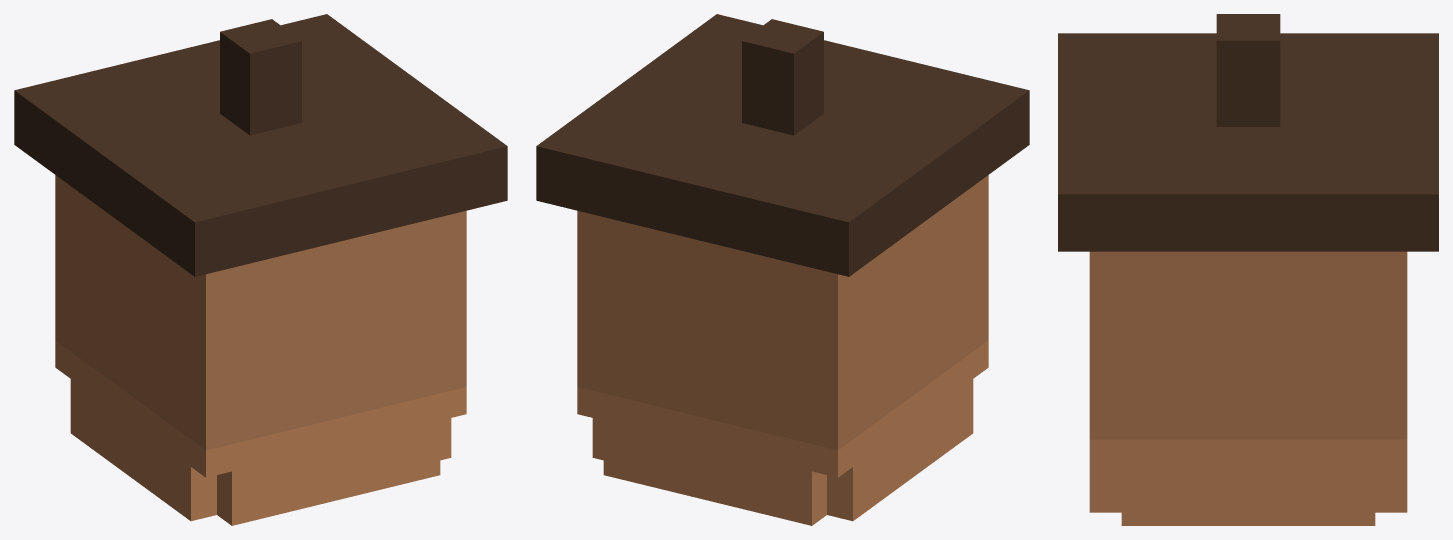
Rendered from bellota.obj.
3 renders of one model, left to right at view 1: azimuth 30°, elevation 25°; view 2: azimuth 150°, elevation 25°; view 3: azimuth 270°, elevation 25°, orthographic. The views are drawn at different scales.
Bounding box in the file's own units: 1.2 × 1.5 × 1.2.
1 material, 1 textured.
